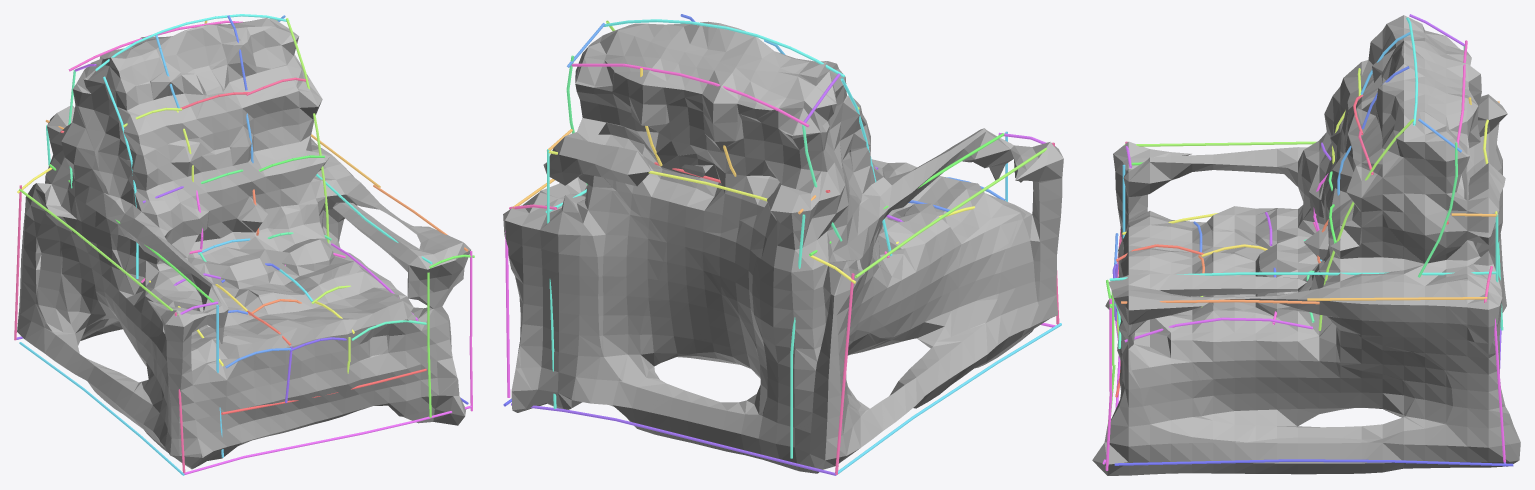
File: author2_sofa.gltf
The picture shows the model from 3 angles, left to right: view 1: azimuth 30°, elevation 25°; view 2: azimuth 150°, elevation 25°; view 3: azimuth 270°, elevation 25°; orthographic projection. The views are drawn at different scales.
Bounding box in the file's own units: 0.5739 × 0.5957 × 0.6392.
